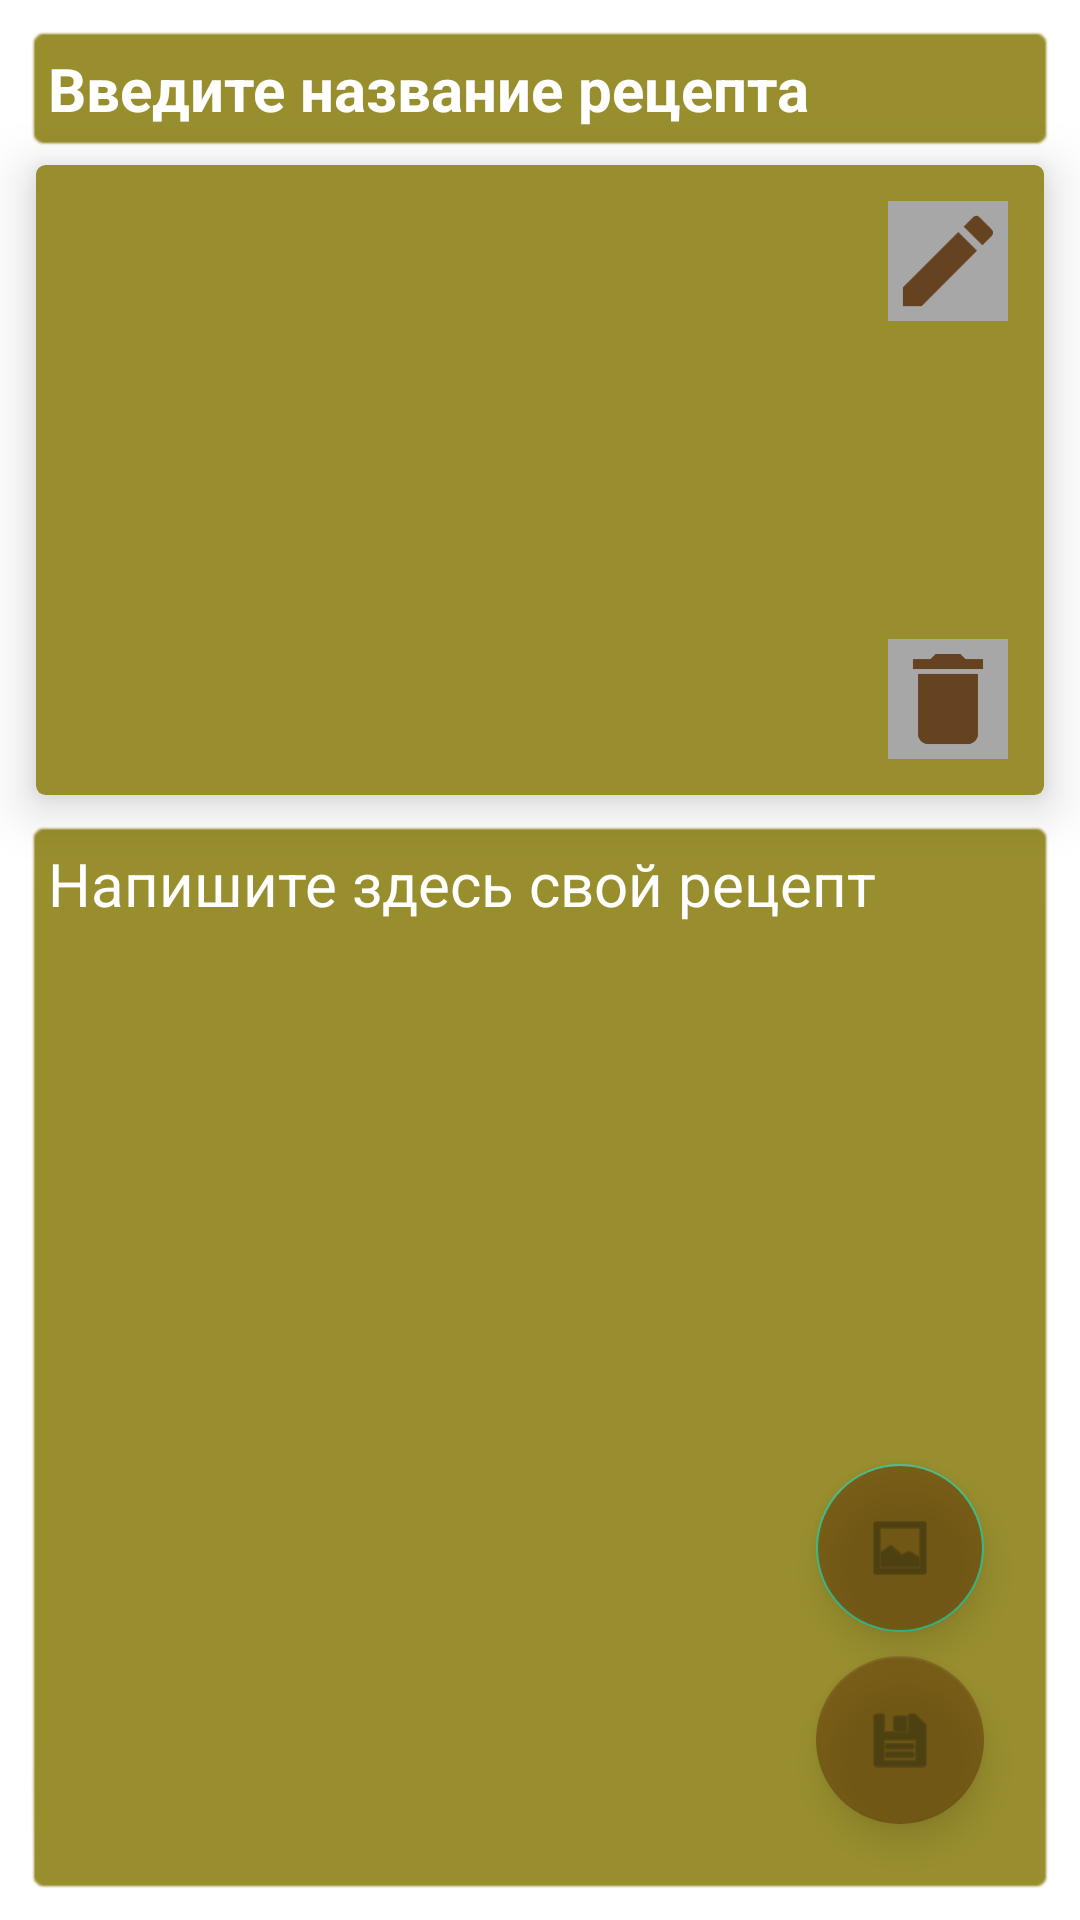

Icon bounding boxes for this 1080 × 1920 phone screenshot, format Rect(x1, y1, x2, y2):
delete: Rect(888, 639, 1008, 759)
edit: Rect(888, 201, 1008, 321)
gallery: Rect(816, 1464, 984, 1632)
save: Rect(816, 1656, 984, 1824)
